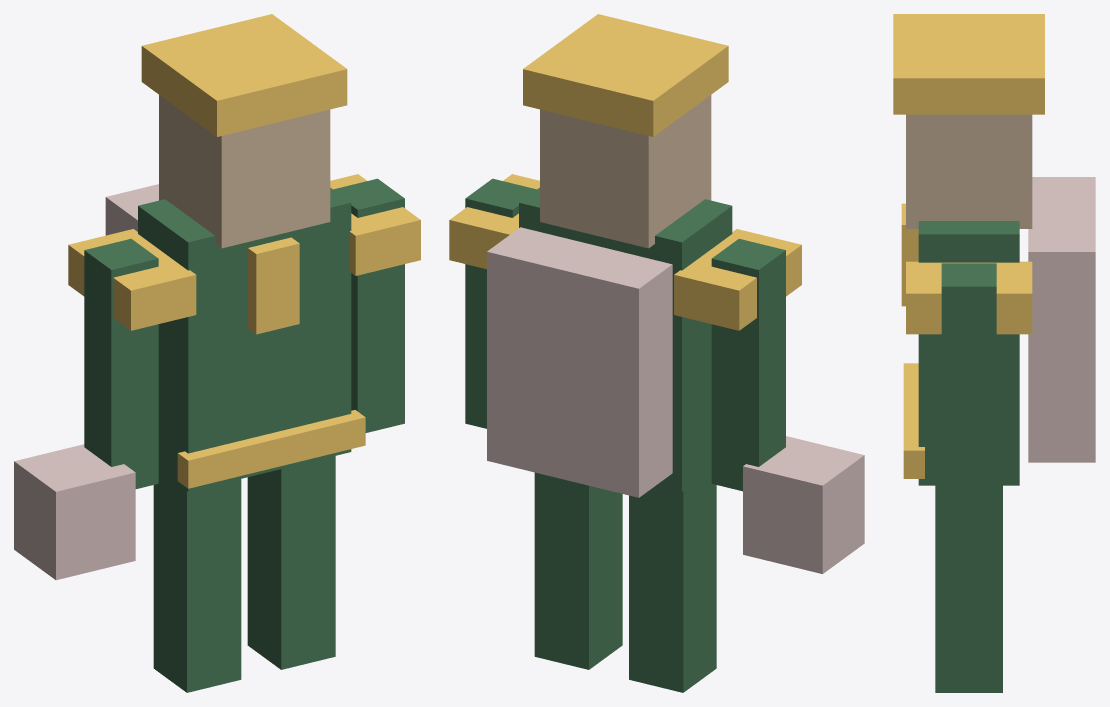
File: 01_lio_chromabell_diver_at.glb
3 renders of one model, left to right at view 1: azimuth 30°, elevation 25°; view 2: azimuth 150°, elevation 25°; view 3: azimuth 270°, elevation 25°, orthographic.
Visible parts, largest first — view 1: Lio Chromabell, Diver at; view 2: Lio Chromabell, Diver at; view 3: Lio Chromabell, Diver at.
Part boxes in pixels (left/top/right/bottom): Lio Chromabell, Diver at: left=14, top=14, right=420, bottom=692; Lio Chromabell, Diver at: left=449, top=14, right=864, bottom=692; Lio Chromabell, Diver at: left=893, top=14, right=1095, bottom=692.
Bounding box in the file's own units: 0.9698 × 1.56 × 0.4679.
